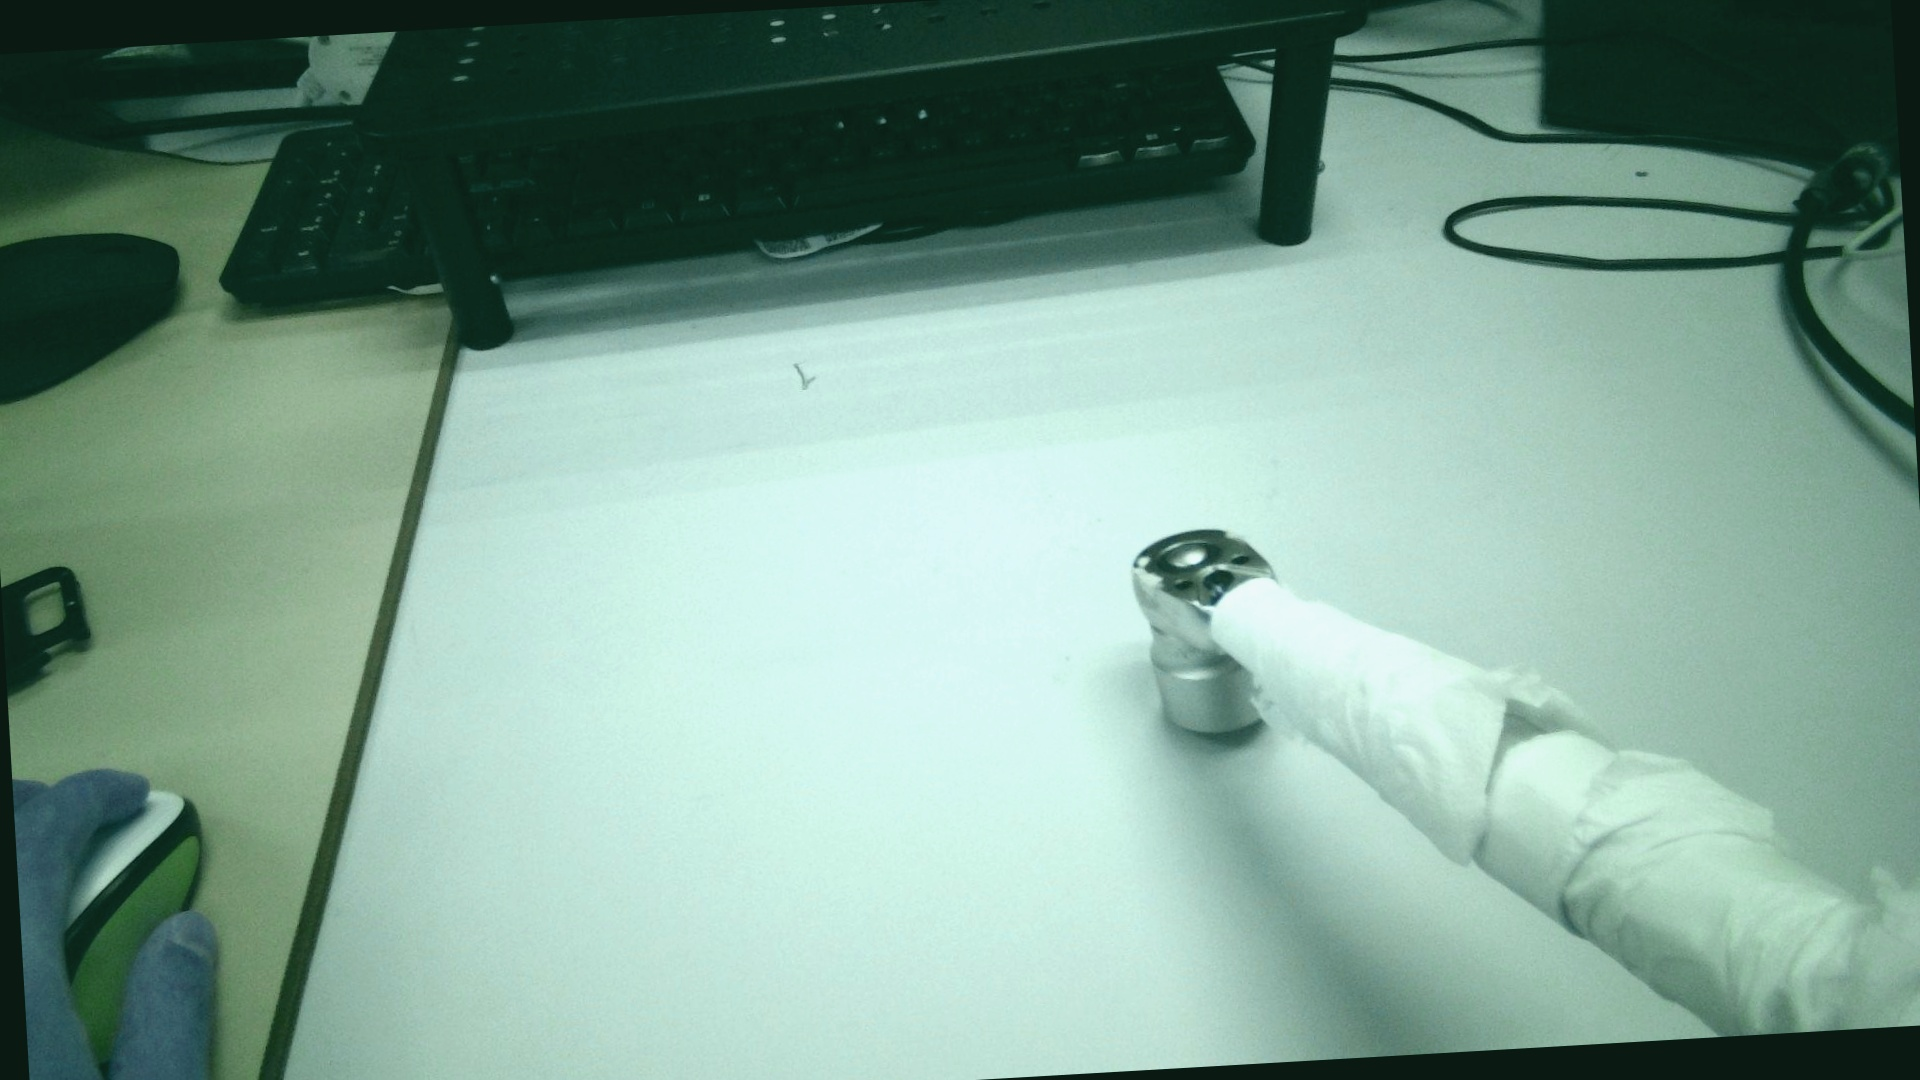wrench: (1155, 534, 1220, 578)
